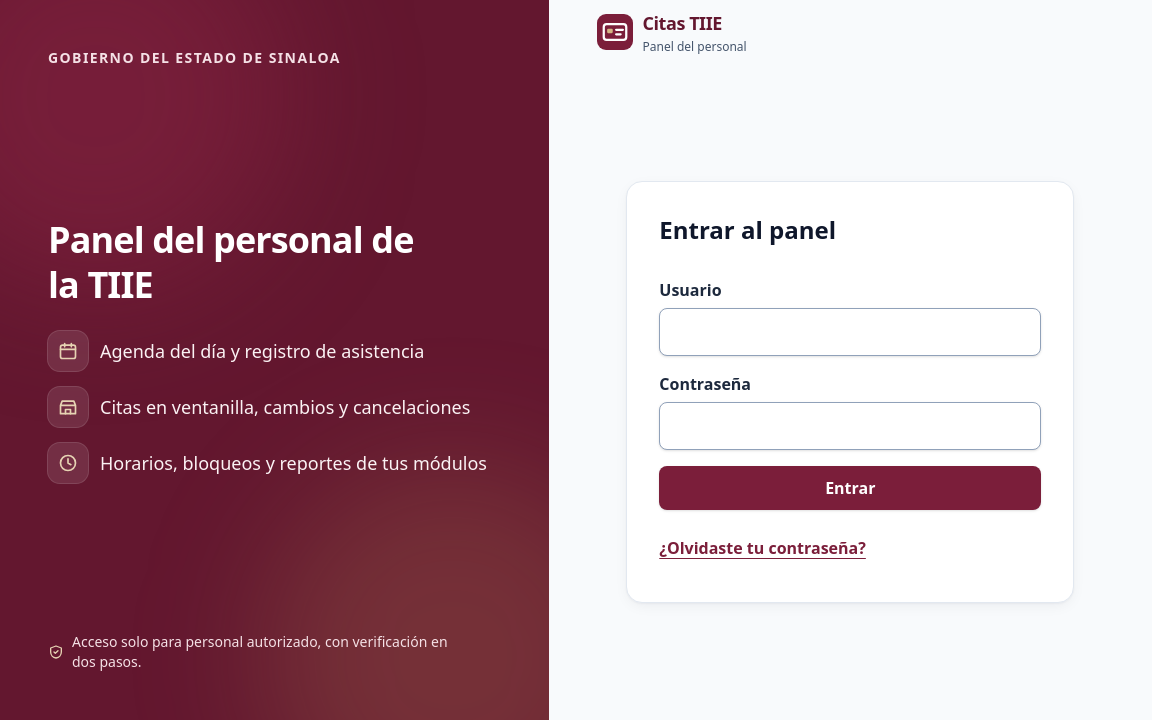
Entrar al panel › con CodigoMfa pide el código, lo envía sin espacios y abre la agenda
Type "capturista" into the field labelled "Usuario" at (850, 332), box x1=659 y1=308 x2=1041 y2=356
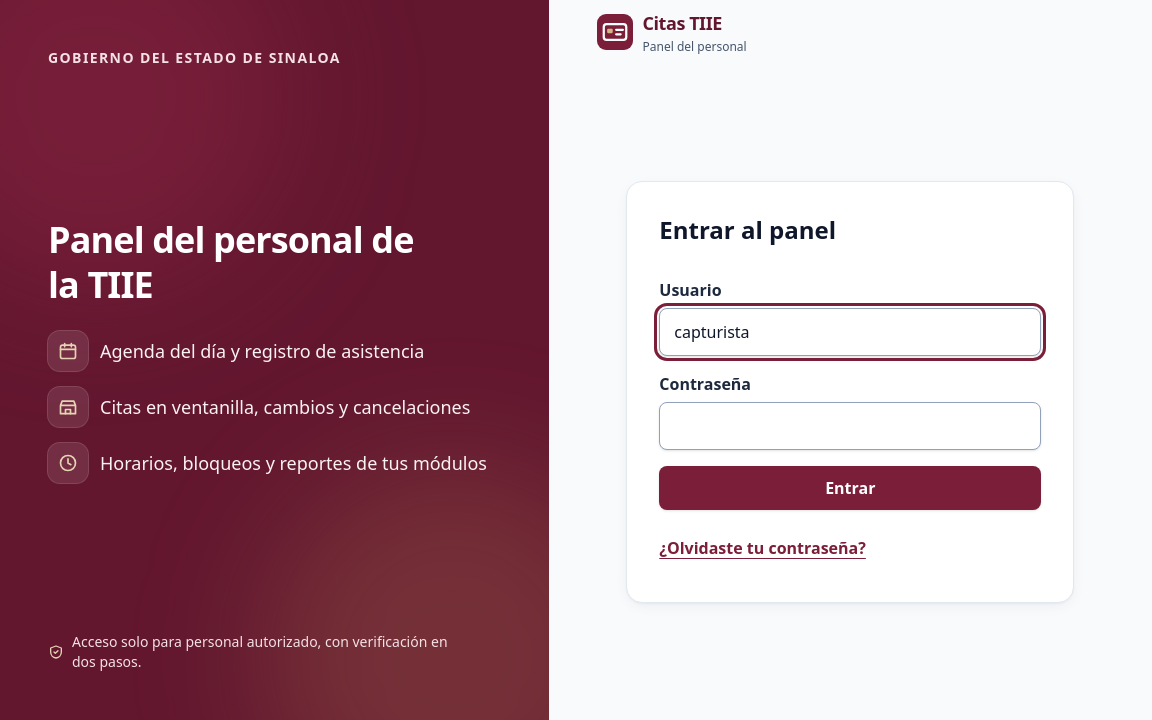
Type "una frase larga y segura" into the password field labelled "Contraseña" at (850, 426), box x1=659 y1=402 x2=1041 y2=450
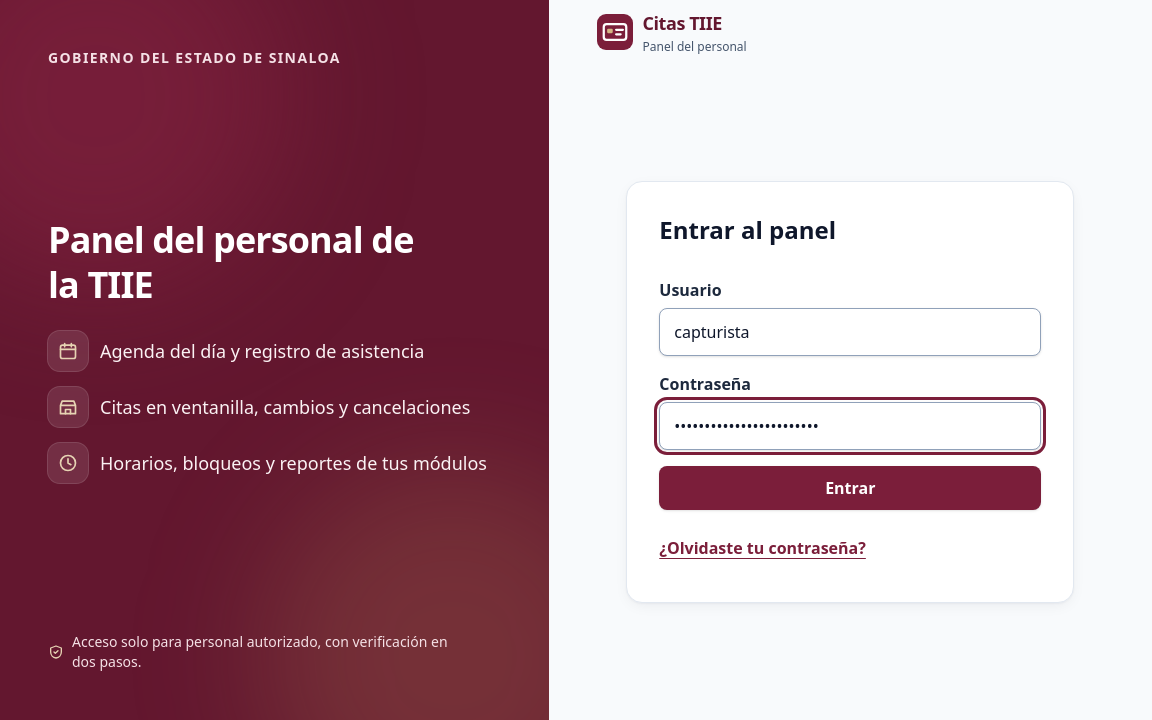
Click the button "Entrar" at (850, 488), box x1=659 y1=466 x2=1041 y2=510
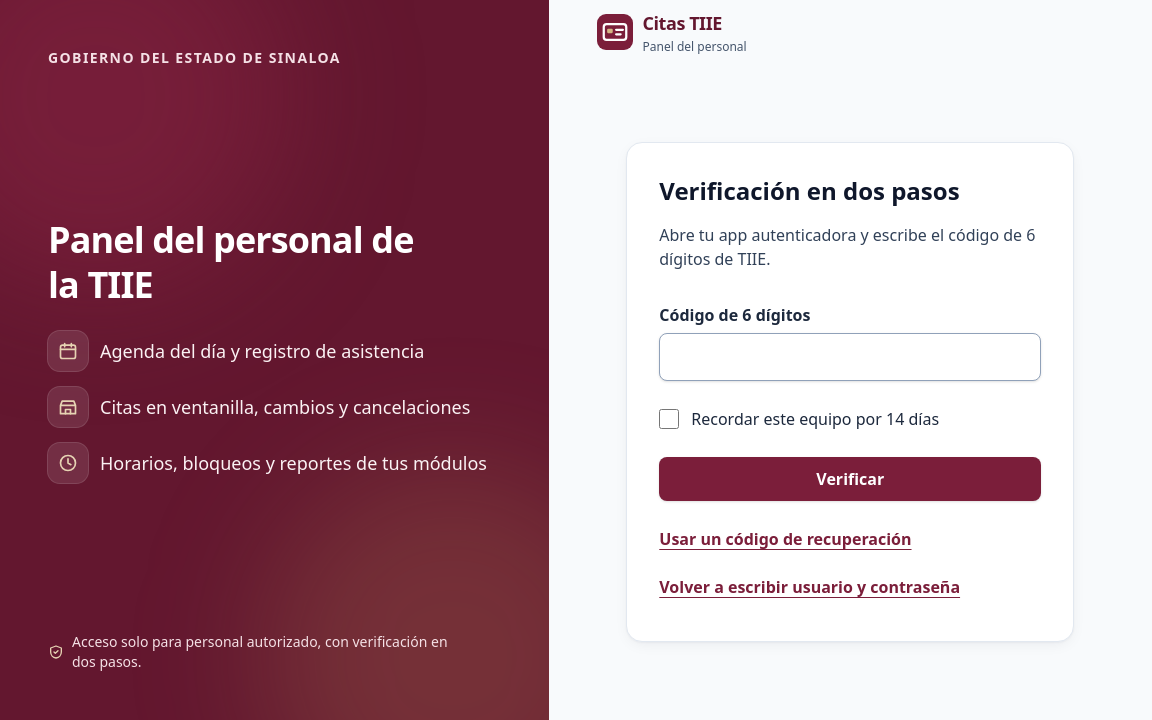
Type "123 456" into the field labelled "Código de 6 dígitos" at (850, 357), box x1=659 y1=333 x2=1041 y2=381
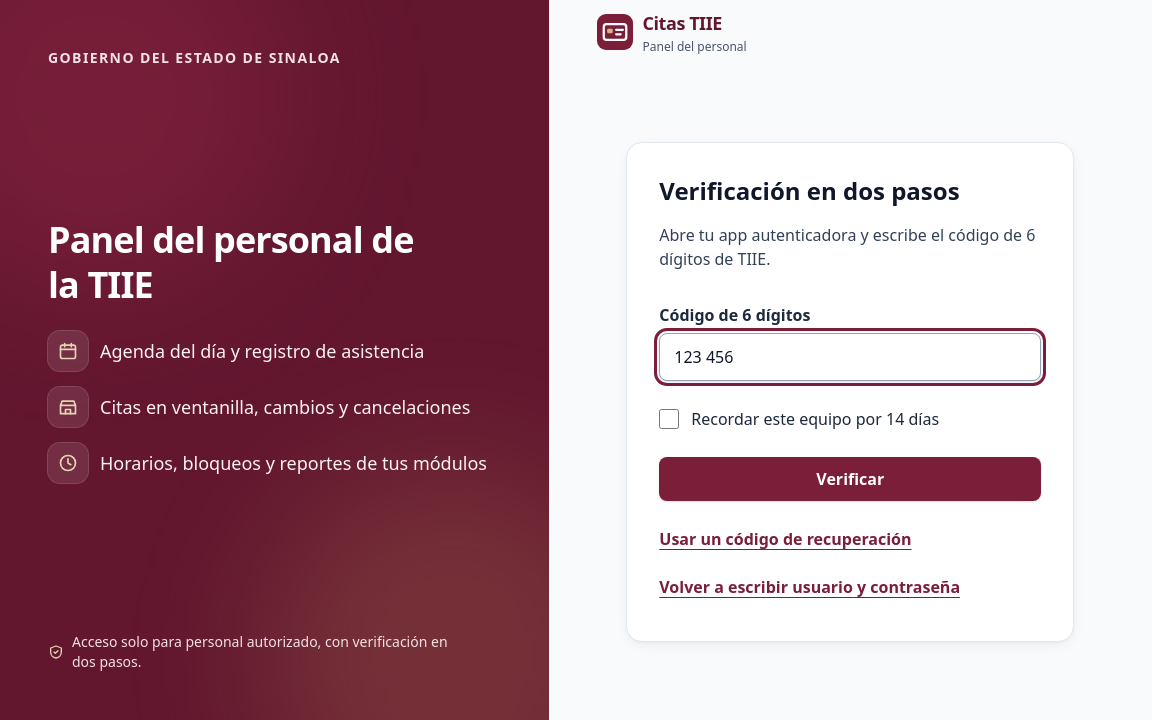
Click the checkbox labelled "Recordar este equipo por 14 días" at (669, 419), box x1=659 y1=409 x2=679 y2=429
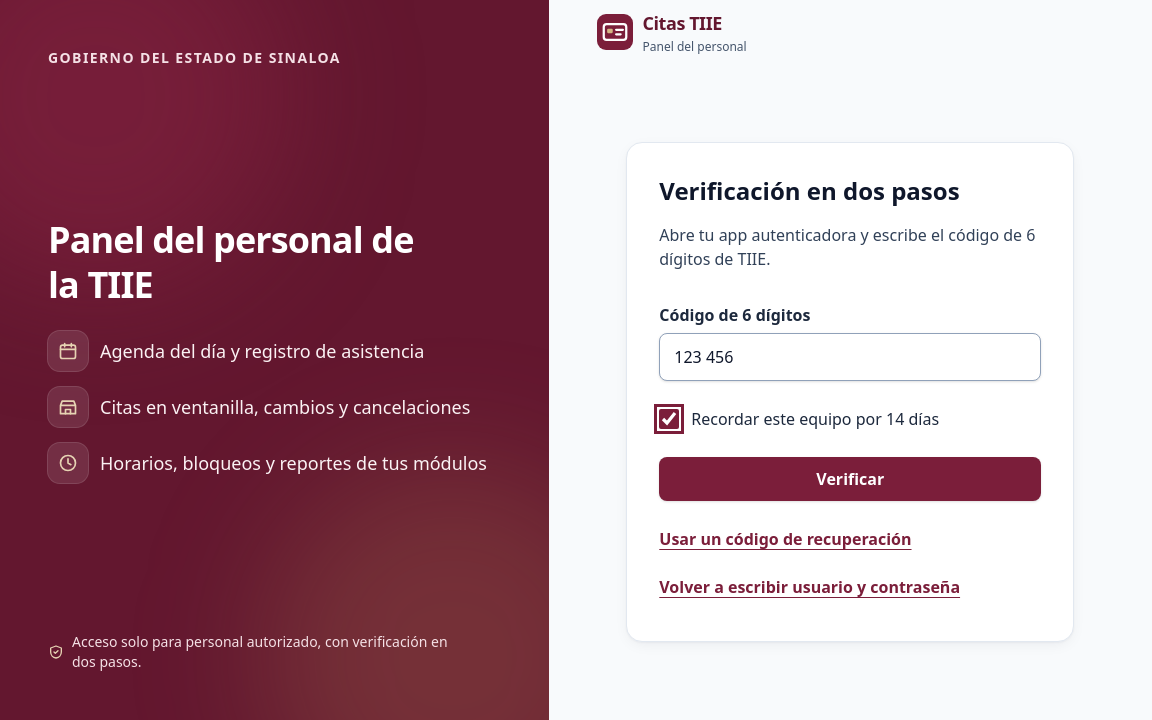
Click the button "Verificar" at (850, 479), box x1=659 y1=457 x2=1041 y2=501
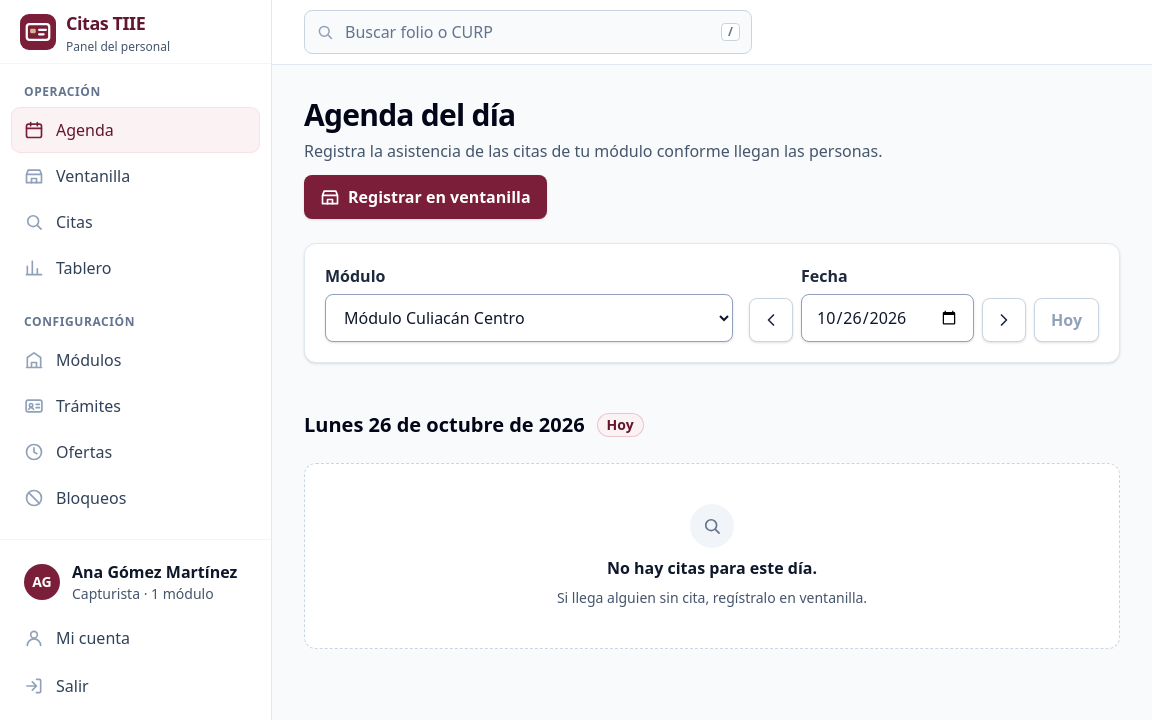
Check: the heading "Agenda del día" is shown, box x1=304 y1=94 x2=516 y2=135
